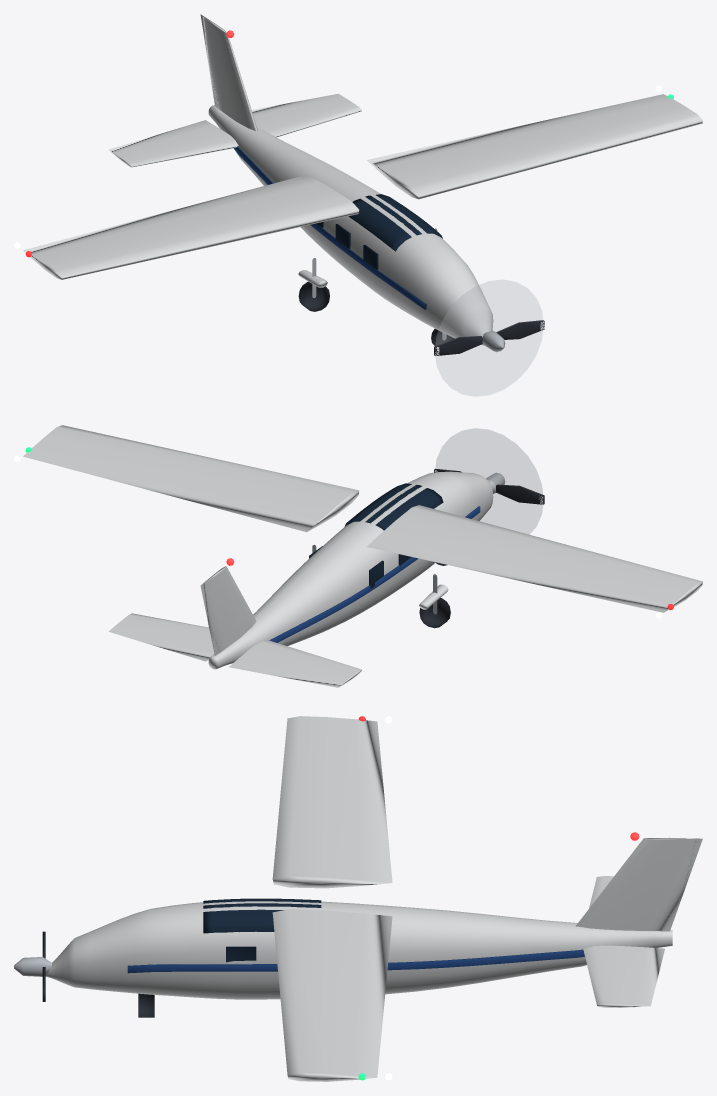
3 renders of one model, top to bottom at view 1: azimuth 30°, elevation 25°; view 2: azimuth 150°, elevation 25°; view 3: azimuth 270°, elevation 25°, orthographic. The views are drawn at different scales.
Parts seen in each view (by area): view 1: body, disc0, prop0, gearL_fixed; view 2: body, disc0, gearL_fixed, prop0; view 3: body, prop0.
Boxes of the visible parts, box(x1,y1,x2,y2) form: body: box(23, 14, 702, 345); disc0: box(435, 280, 542, 396); prop0: box(434, 320, 544, 355); gearL_fixed: box(298, 258, 329, 311); body: box(23, 425, 702, 687); disc0: box(435, 428, 542, 534); gearL_fixed: box(419, 574, 450, 628); prop0: box(434, 468, 544, 504); body: box(45, 716, 702, 1081); prop0: box(14, 931, 51, 1001).
Size of the model in its own units: 11.26 by 2.91 by 9.1.
